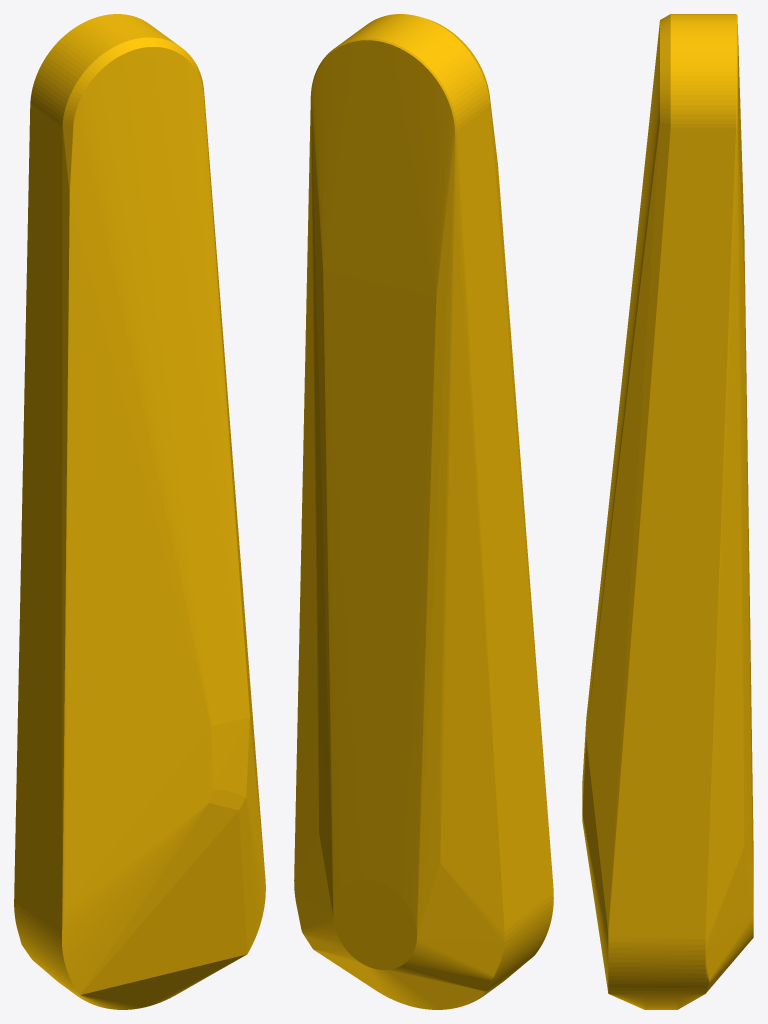
The picture shows the model from 3 angles, left to right: view 1: azimuth 30°, elevation 25°; view 2: azimuth 150°, elevation 25°; view 3: azimuth 270°, elevation 25°; orthographic projection. The views are drawn at different scales.
Parts seen in each view (by area): view 1: link_2.001; view 2: link_2.001; view 3: link_2.001.
Part boxes in pixels (<box>): link_2.001: <box>14,14,265,1009</box>; link_2.001: <box>294,14,553,1009</box>; link_2.001: <box>582,14,753,1009</box>.
Size of the model in its own units: 0.316 by 0.225 by 1.42.
